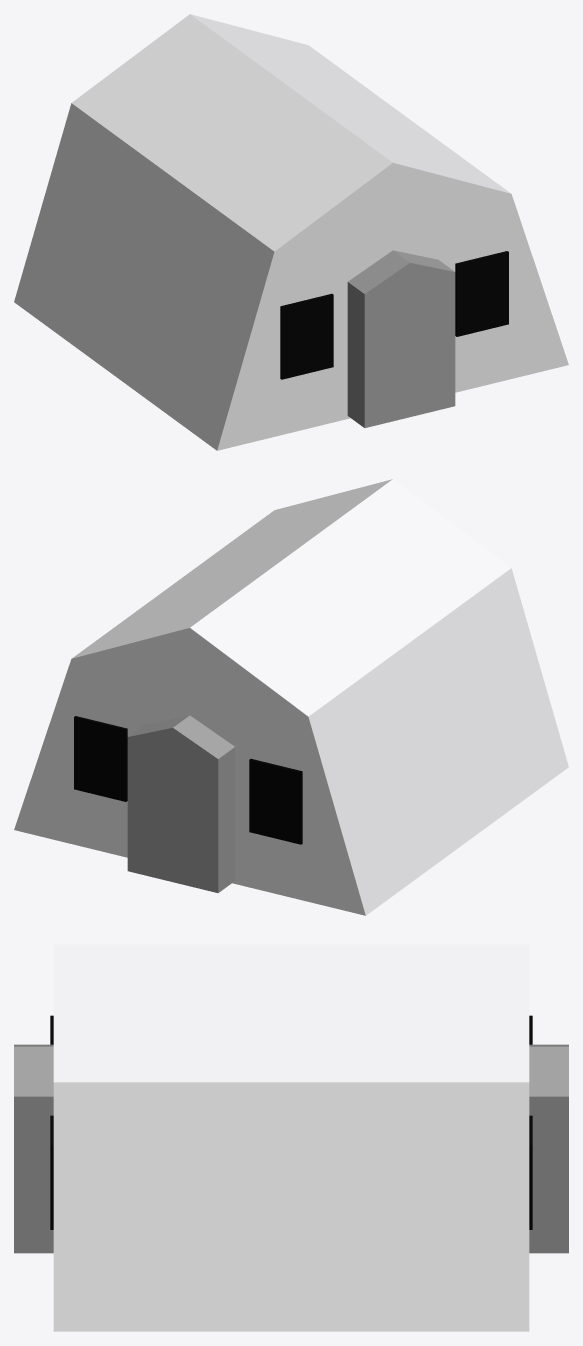
Rendered from buildings3.fbx.
3 renders of one model, top to bottom at view 1: azimuth 30°, elevation 25°; view 2: azimuth 150°, elevation 25°; view 3: azimuth 270°, elevation 25°, orthographic. The views are drawn at different scales.
Parts seen in each view (by area): view 1: Tent; view 2: Tent; view 3: Tent.
Boxes of the visible parts, x1,y1,x2,y2 form: Tent: (14, 14, 568, 450); Tent: (14, 479, 568, 915); Tent: (14, 944, 568, 1331).
Bounding box in the file's own units: 200 × 133 × 233.
Materials: 1 (1 with a texture image).
